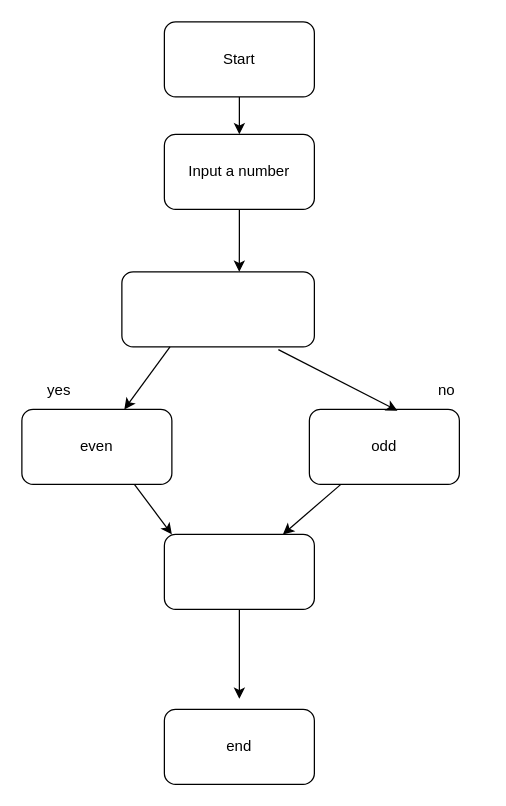
This 506x806 diagram has some shape labels left out. The box of each missing label's shape, as (x1, y1, x2, y2) in pixels:
check if number / 2 = 0: (121, 271, 314, 347)
display result: (163, 533, 314, 609)
